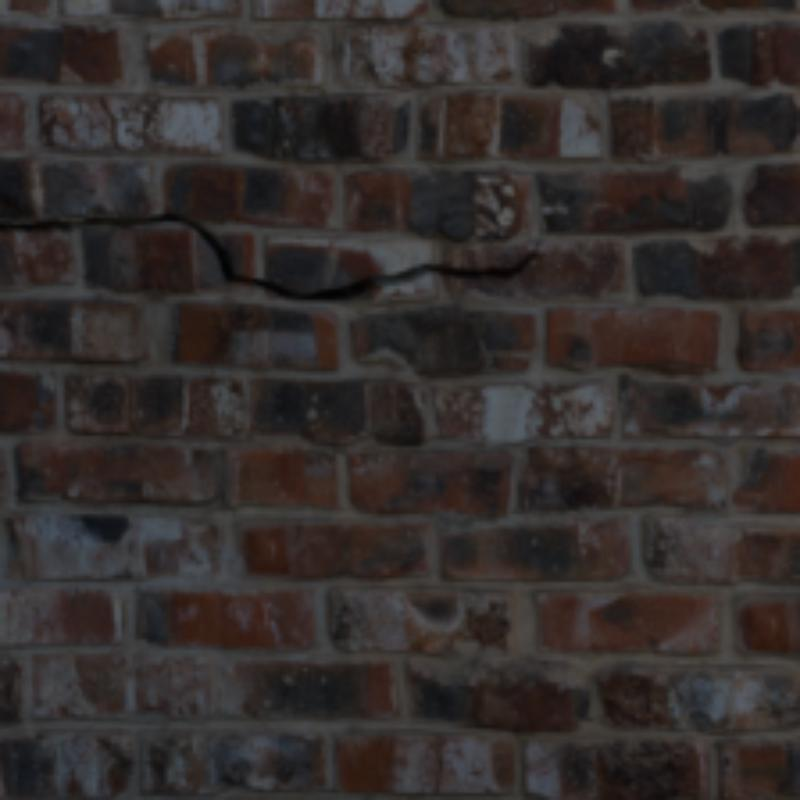crack: (0, 211, 539, 296), (96, 93, 125, 150), (436, 732, 443, 793)
